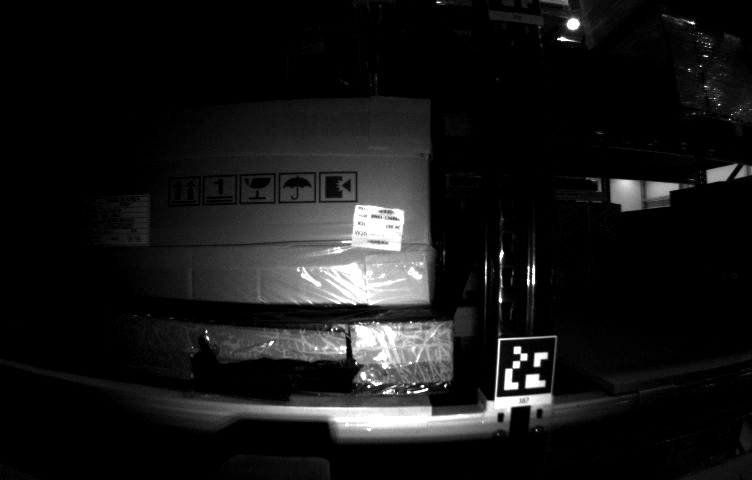True Barcode: (349, 203, 403, 255)
